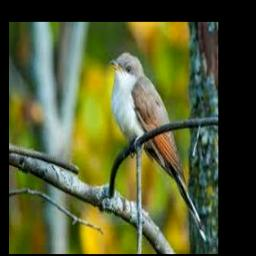Cuckoo: (110, 53, 207, 241)
